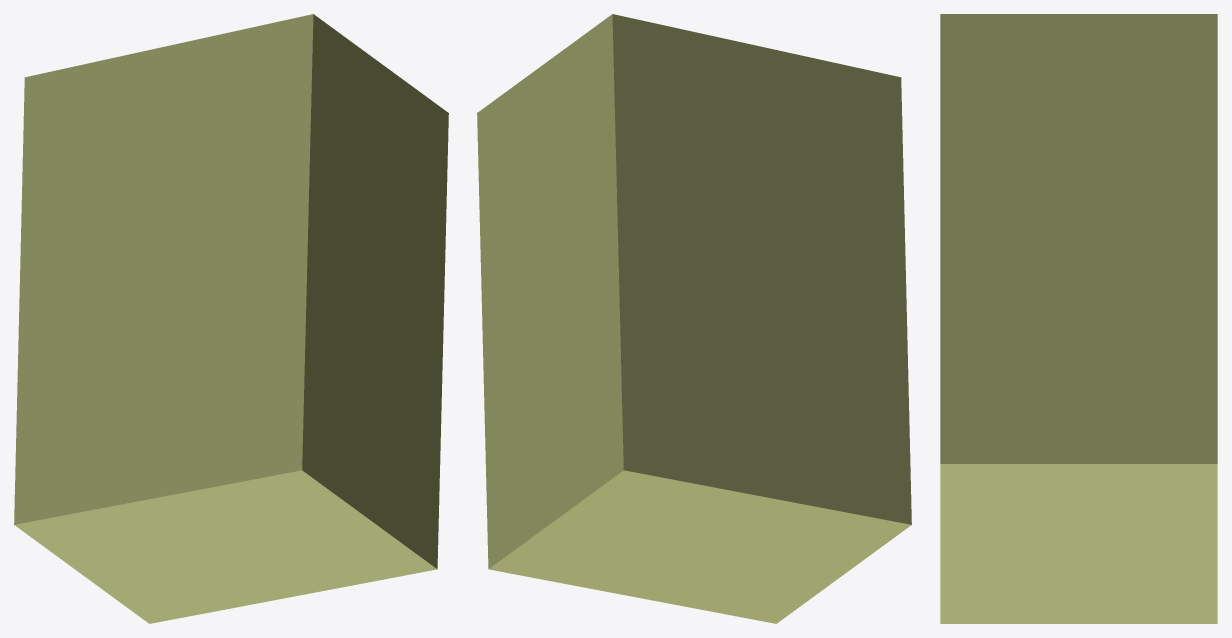
The picture shows the model from 3 angles, left to right: view 1: azimuth 30°, elevation 25°; view 2: azimuth 150°, elevation 25°; view 3: azimuth 270°, elevation 25°; orthographic projection. The views are drawn at different scales.
Parts seen in each view (by area): view 1: 0_2_1_0_0_3_0_3_3_3; view 2: 0_2_1_0_0_3_0_3_3_3; view 3: 0_2_1_0_0_3_0_3_3_3.
Part boxes in pixels (bbox=[...]): 0_2_1_0_0_3_0_3_3_3: bbox=[14, 14, 448, 623]; 0_2_1_0_0_3_0_3_3_3: bbox=[477, 14, 911, 623]; 0_2_1_0_0_3_0_3_3_3: bbox=[940, 14, 1217, 623].
Bounding box in the file's own units: 7.66 × 11.26 × 6.
